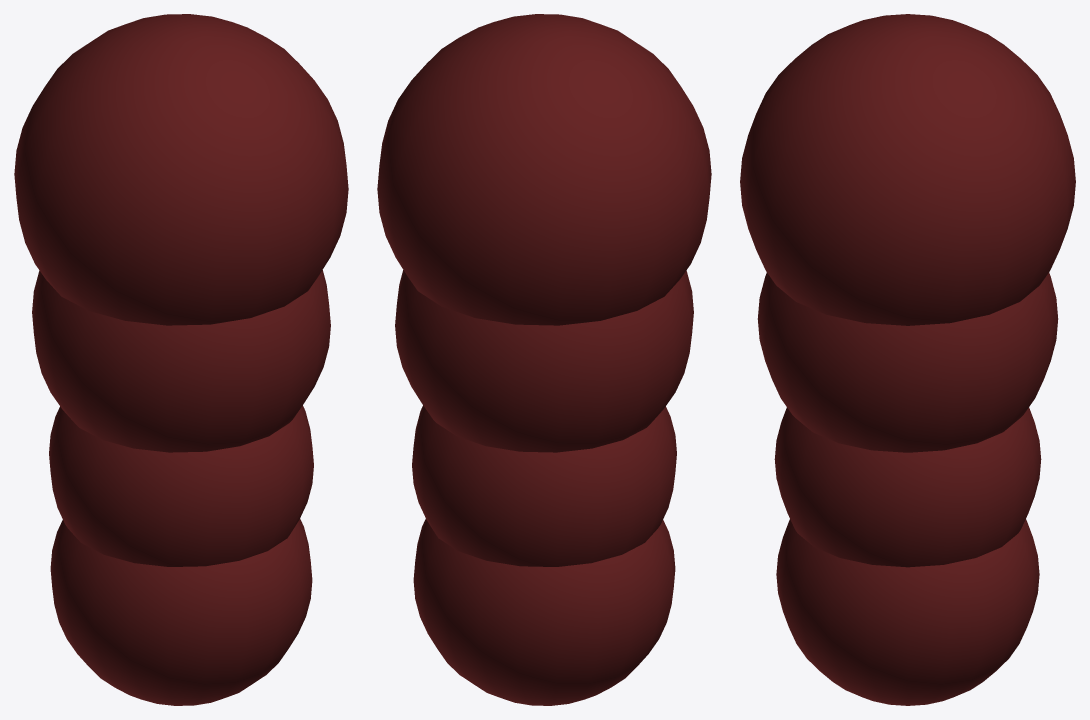
The model's file is House5.fbx.
The picture shows the model from 3 angles, left to right: view 1: azimuth 30°, elevation 25°; view 2: azimuth 150°, elevation 25°; view 3: azimuth 270°, elevation 25°; orthographic projection.
Visible parts, largest first — view 1: House5Ball9, House5Ball8, House5Ball6, House5Ball7; view 2: House5Ball9, House5Ball8, House5Ball6, House5Ball7; view 3: House5Ball9, House5Ball8, House5Ball6, House5Ball7.
Boxes of the visible parts, x1,y1,x2,y2 form: House5Ball9: (14,14,348,325); House5Ball8: (32,270,330,452); House5Ball6: (50,519,312,705); House5Ball7: (49,405,313,566); House5Ball9: (377,14,711,325); House5Ball8: (395,270,693,452); House5Ball6: (413,519,675,705); House5Ball7: (412,405,676,566); House5Ball9: (740,14,1075,325); House5Ball8: (757,272,1058,452); House5Ball6: (776,519,1039,705); House5Ball7: (774,407,1041,567).
Bounding box in the file's own units: 28.71 × 62.63 × 28.71.
